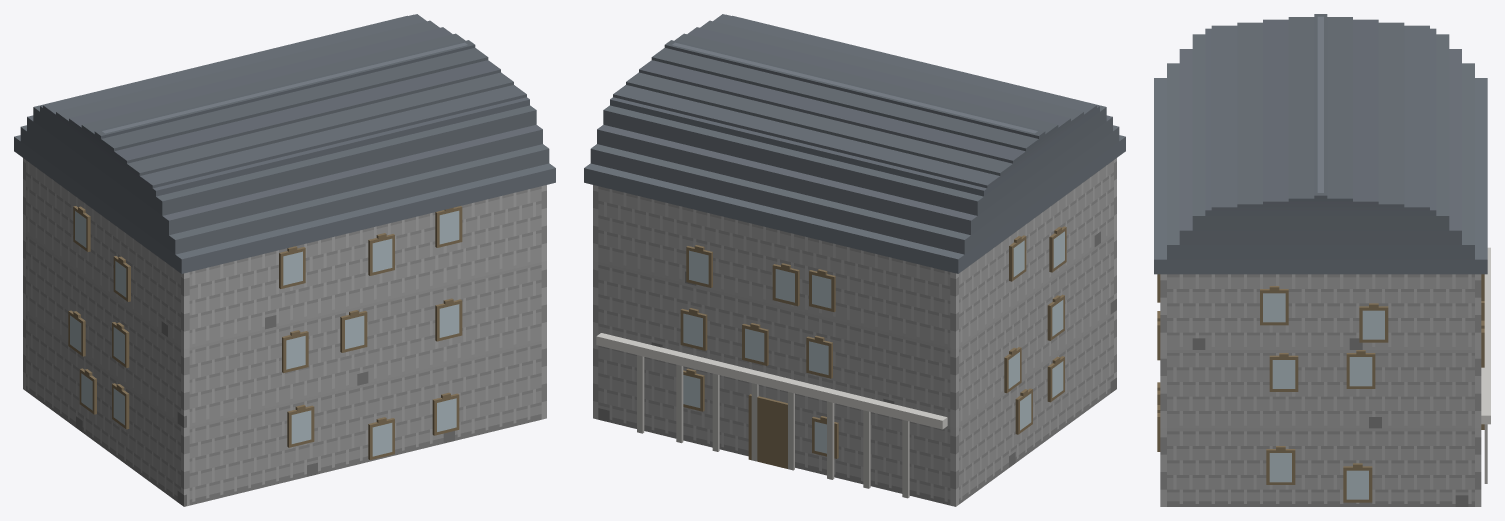
File: academia_magia_01.glb
The picture shows the model from 3 angles, left to right: view 1: azimuth 30°, elevation 25°; view 2: azimuth 150°, elevation 25°; view 3: azimuth 270°, elevation 25°; orthographic projection.
Visible parts, largest first — view 1: academia_magia_01; view 2: academia_magia_01; view 3: academia_magia_01.
Boxes of the visible parts, x1,y1,x2,y2 form: academia_magia_01: [14, 14, 555, 506]; academia_magia_01: [584, 14, 1125, 506]; academia_magia_01: [1154, 14, 1490, 506].
Bounding box in the file's own units: 13.4 × 10.8 × 10.5.
